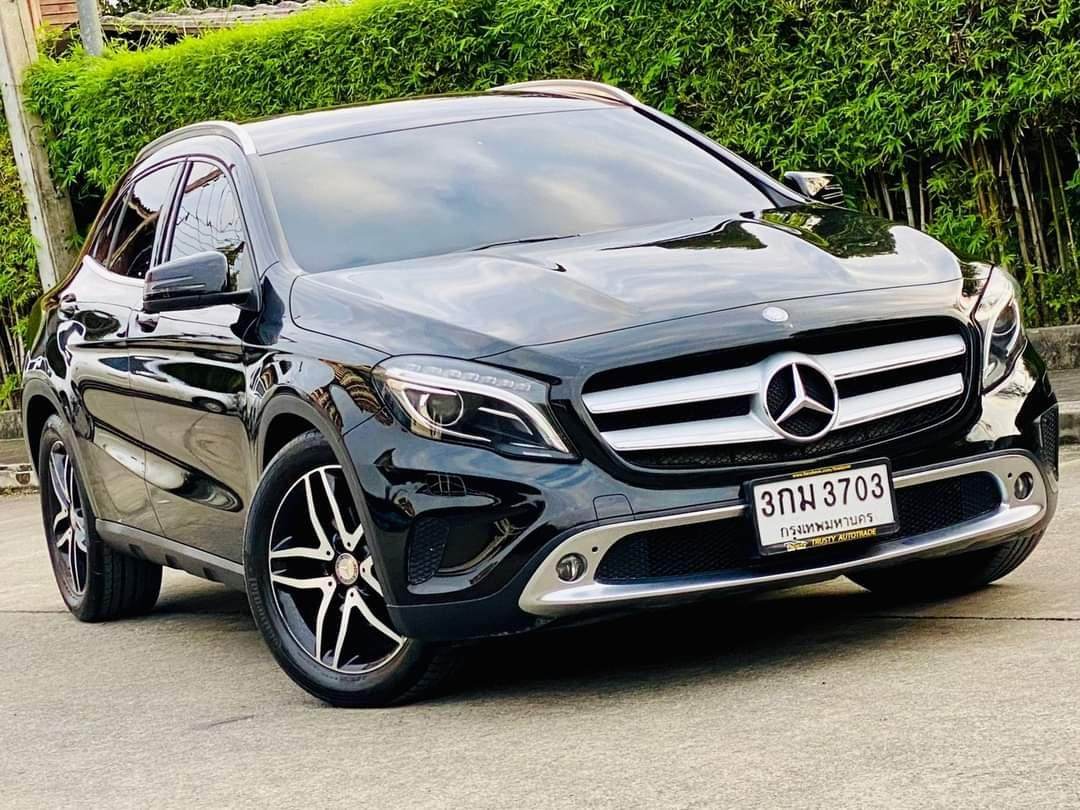license-plate: (742, 453, 905, 563)
